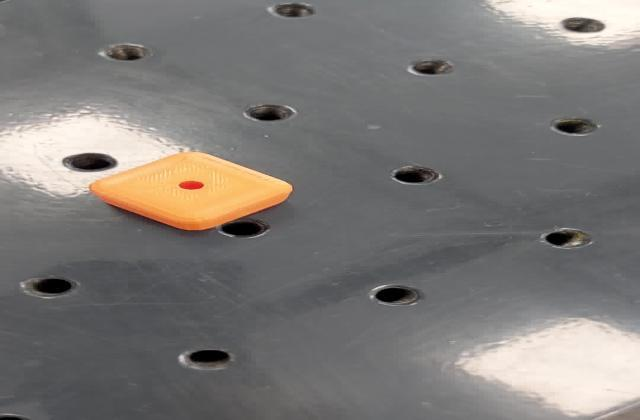cube: (86, 149, 301, 235)
